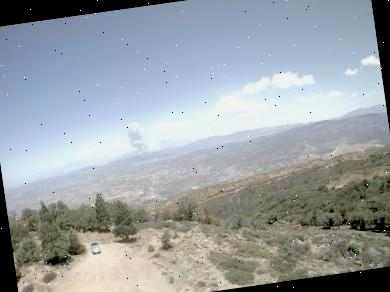smoke: (124, 117, 150, 157)
